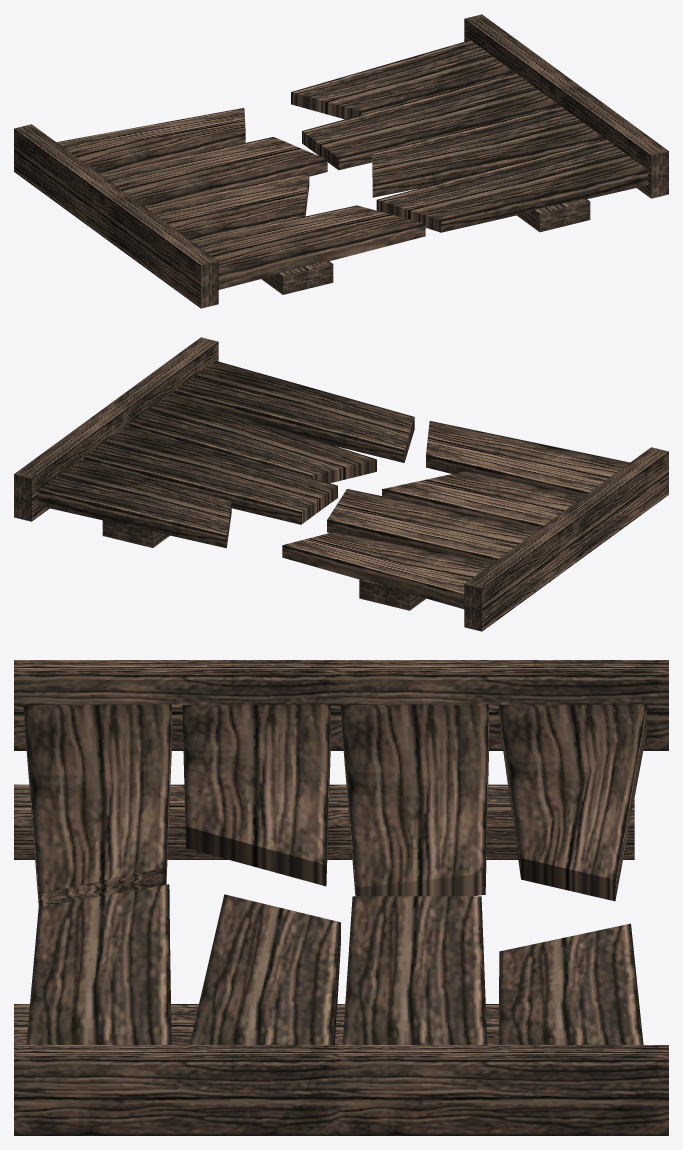
Rendered from CB_LOOKOUT_PLATFORMFALL.fbx.
The picture shows the model from 3 angles, top to bottom: view 1: azimuth 30°, elevation 25°; view 2: azimuth 150°, elevation 25°; view 3: azimuth 270°, elevation 25°; orthographic projection. The views are drawn at different scales.
Visible parts, largest first — view 1: CB_LOOKOUT_PLATFORMFALL; view 2: CB_LOOKOUT_PLATFORMFALL; view 3: CB_LOOKOUT_PLATFORMFALL.
Part boxes in pixels (x1,y1,x2,y2): CB_LOOKOUT_PLATFORMFALL: [14, 14, 668, 308]; CB_LOOKOUT_PLATFORMFALL: [14, 337, 668, 631]; CB_LOOKOUT_PLATFORMFALL: [14, 660, 668, 1135].
Size of the model in its own units: 26035 by 2635 by 18013.
1 material, 1 textured.
